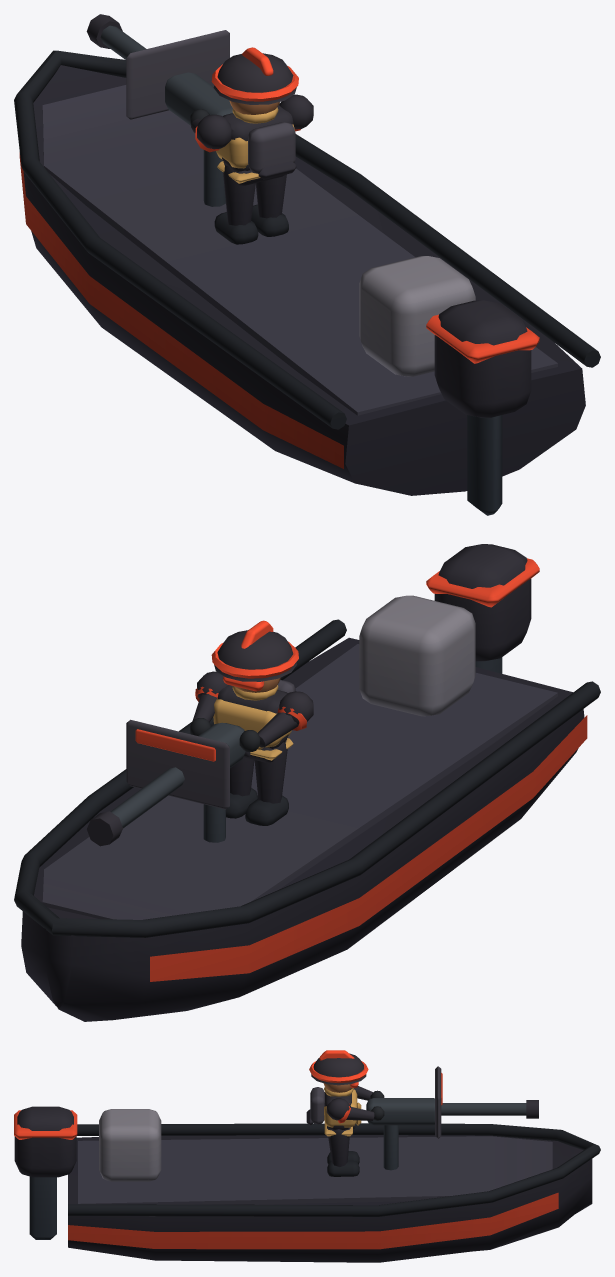
Rendered from skiff.glb.
The picture shows the model from 3 angles, top to bottom: view 1: azimuth 30°, elevation 25°; view 2: azimuth 150°, elevation 25°; view 3: azimuth 270°, elevation 25°; orthographic projection. The views are drawn at different scales.
Parts seen in each view (by area): view 1: skiff Ashen slate, skiff Ashen charcoal, skiff Rubber, skiff Ember paint, skiff Ash grey, skiff Turret Ashen charcoal, skiff Turret Ashen slate, skiff Turret Gunmetal, skiff Gunmetal, skiff Turret Rubber, skiff Turret Ember paint, skiff Turret Sand webbing; view 2: skiff Ashen slate, skiff Ashen charcoal, skiff Rubber, skiff Ember paint, skiff Ash grey, skiff Turret Ashen charcoal, skiff Turret Ashen slate, skiff Turret Gunmetal, skiff Turret Ember paint, skiff Turret Rubber, skiff Turret Sand webbing; view 3: skiff Ashen slate, skiff Ashen charcoal, skiff Rubber, skiff Ember paint, skiff Ash grey, skiff Turret Gunmetal, skiff Turret Ashen charcoal, skiff Gunmetal, skiff Turret Ashen slate, skiff Turret Ember paint, skiff Turret Rubber, skiff Turret Sand webbing.
Part boxes in pixels (x1,y1,x2,y2): skiff Ashen slate: [42, 85, 557, 415]; skiff Ashen charcoal: [23, 65, 585, 495]; skiff Rubber: [14, 50, 600, 429]; skiff Ember paint: [19, 152, 539, 468]; skiff Ash grey: [359, 256, 475, 376]; skiff Turret Ashen charcoal: [86, 14, 313, 225]; skiff Turret Ashen slate: [126, 30, 295, 173]; skiff Turret Gunmetal: [100, 25, 232, 206]; skiff Gunmetal: [467, 415, 502, 515]; skiff Turret Rubber: [190, 109, 288, 244]; skiff Turret Ember paint: [195, 47, 300, 152]; skiff Turret Sand webbing: [216, 107, 294, 183]; skiff Ashen slate: [42, 644, 557, 919]; skiff Ashen charcoal: [21, 544, 584, 1021]; skiff Rubber: [14, 619, 600, 937]; skiff Ember paint: [150, 558, 587, 981]; skiff Ash grey: [359, 595, 475, 716]; skiff Turret Ashen charcoal: [87, 630, 313, 846]; skiff Turret Ashen slate: [126, 679, 295, 809]; skiff Turret Gunmetal: [110, 722, 245, 842]; skiff Turret Ember paint: [135, 620, 306, 761]; skiff Turret Rubber: [190, 718, 288, 825]; skiff Turret Sand webbing: [213, 685, 293, 760]; skiff Ashen slate: [78, 1136, 552, 1204]; skiff Ashen charcoal: [14, 1106, 592, 1262]; skiff Rubber: [68, 1123, 600, 1216]; skiff Ember paint: [14, 1110, 558, 1249]; skiff Ash grey: [99, 1109, 161, 1181]; skiff Turret Gunmetal: [366, 1098, 526, 1170]; skiff Turret Ashen charcoal: [306, 1053, 538, 1166]; skiff Gunmetal: [29, 1176, 56, 1239]; skiff Turret Ashen slate: [310, 1066, 441, 1138]; skiff Turret Ember paint: [309, 1050, 442, 1123]; skiff Turret Rubber: [327, 1090, 384, 1176]; skiff Turret Sand webbing: [324, 1087, 361, 1136].
Bounding box in the file's own units: 1.66 × 1.74 × 4.72.
Materials: 8 (8 with a texture image).
